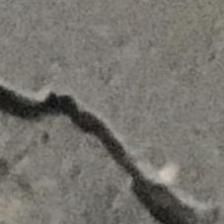Crack: (0, 20, 219, 224)
